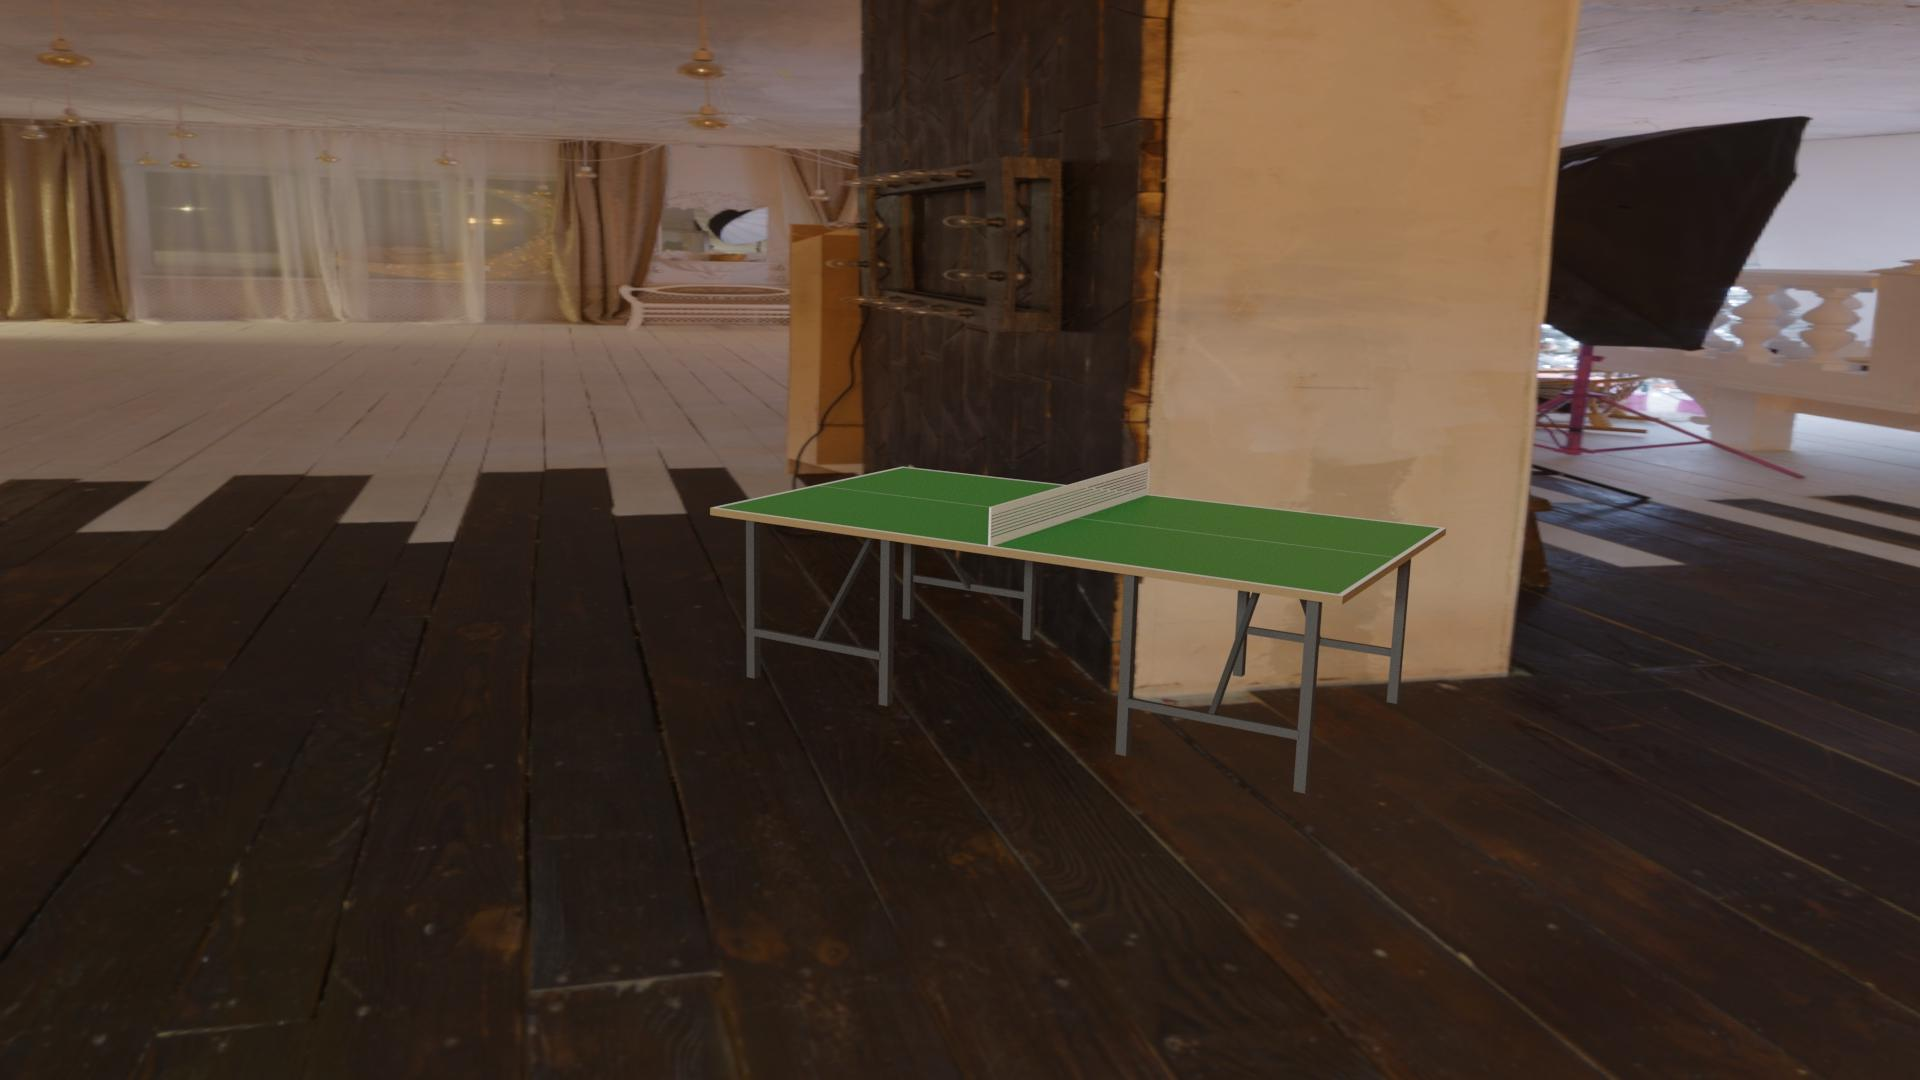table: (717, 468, 1440, 595)
